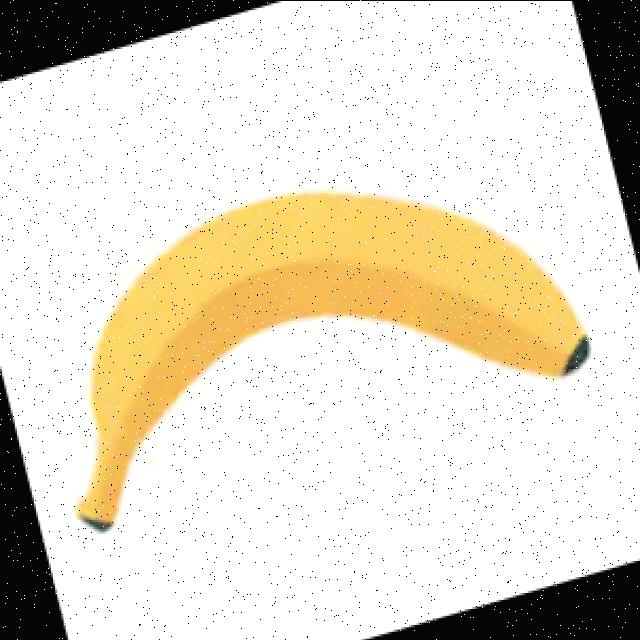banana: (73, 186, 596, 532)
